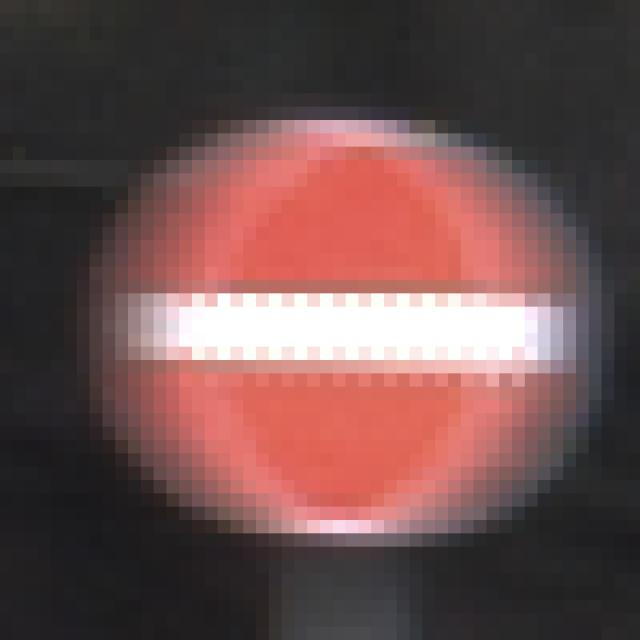No Entry: (78, 81, 577, 574)
